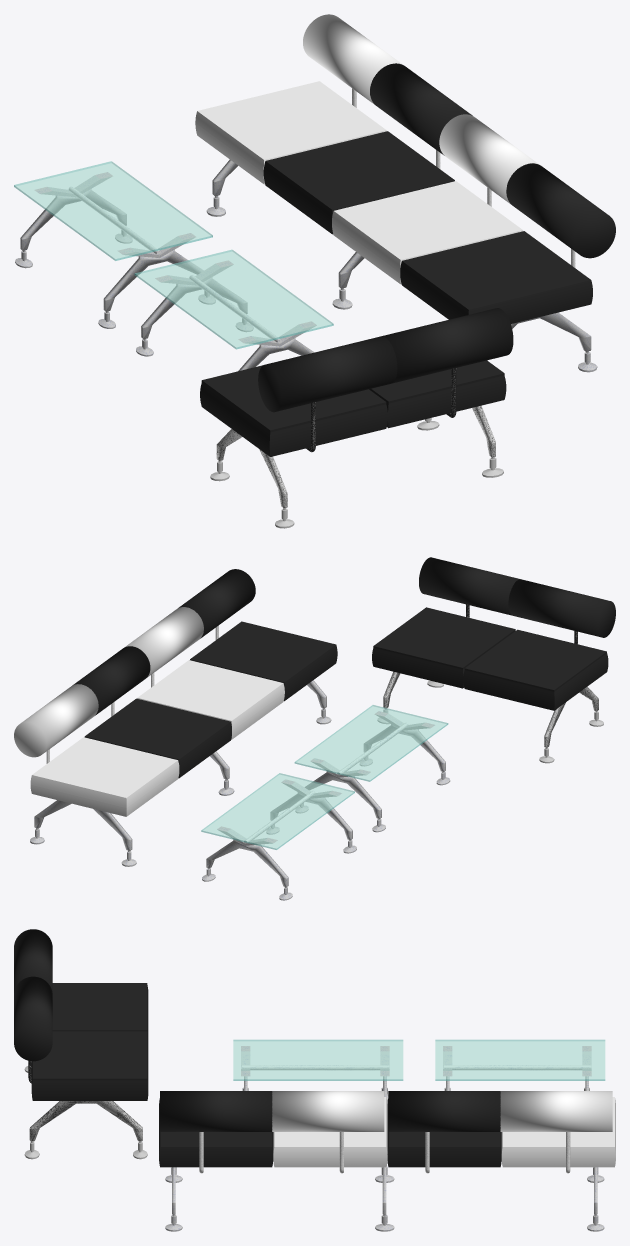
The model's file is sofa.dae.
3 renders of one model, top to bottom at view 1: azimuth 30°, elevation 25°; view 2: azimuth 150°, elevation 25°; view 3: azimuth 270°, elevation 25°, orthographic. The views are drawn at different scales.
Parts seen in each view (by area): view 1: group_2 (×6), group_8, group_9, group_13, group_11, group_20, group_19, group_22, group_7, group_21, group_4 (×4), group_12 (+3 smaller); view 2: group_2 (×4), group_20, group_13, group_21, group_8, group_11, group_9, group_19, group_22, group_14, group_4 (×4), group_10 (+3 smaller); view 3: group_2 (×6), group_21, group_20, group_10, group_12, group_14, group_7, group_9, group_13, group_11, group_8, group_22 (+3 smaller).
Part boxes in pixels (bbox=[...]): group_2 (×6): bbox=[14, 161, 333, 349]; group_8: bbox=[400, 231, 592, 323]; group_9: bbox=[332, 181, 523, 284]; group_13: bbox=[195, 81, 386, 184]; group_11: bbox=[263, 131, 454, 234]; group_20: bbox=[200, 365, 387, 456]; group_19: bbox=[258, 336, 397, 412]; group_22: bbox=[382, 308, 513, 383]; group_7: bbox=[506, 163, 615, 258]; group_21: bbox=[369, 360, 506, 428]; group_4 (×4): bbox=[20, 189, 314, 371]; group_12: bbox=[370, 63, 472, 155]; group_2 (×4): bbox=[202, 705, 447, 849]; group_20: bbox=[463, 629, 608, 710]; group_13: bbox=[30, 737, 179, 816]; group_21: bbox=[372, 607, 515, 688]; group_8: bbox=[190, 621, 337, 701]; group_11: bbox=[84, 698, 231, 778]; group_9: bbox=[137, 660, 284, 739]; group_19: bbox=[508, 579, 615, 637]; group_22: bbox=[419, 557, 520, 615]; group_14: bbox=[14, 684, 98, 757]; group_4 (×4): bbox=[206, 724, 445, 887]; group_10: bbox=[124, 607, 203, 677]; group_2 (×6): bbox=[233, 1040, 604, 1080]; group_21: bbox=[31, 1031, 148, 1100]; group_20: bbox=[52, 983, 148, 1037]; group_10: bbox=[272, 1091, 384, 1131]; group_12: bbox=[388, 1091, 500, 1131]; group_14: bbox=[500, 1091, 612, 1131]; group_7: bbox=[160, 1091, 272, 1131]; group_9: bbox=[273, 1097, 387, 1167]; group_13: bbox=[501, 1097, 615, 1167]; group_11: bbox=[387, 1099, 501, 1167]; group_8: bbox=[159, 1098, 273, 1167]; group_22: bbox=[14, 976, 52, 1061].
Size of the model in its own units: 85.25 by 126 by 31.11.
